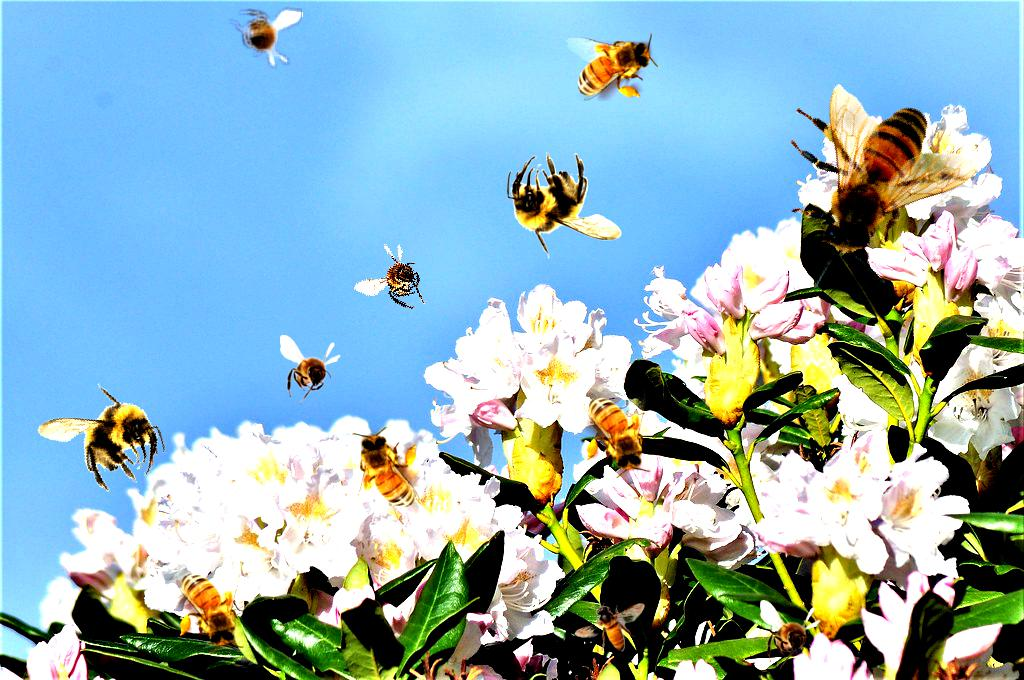Bee: (733, 44, 1008, 316), (29, 368, 174, 509), (507, 152, 622, 259), (353, 234, 444, 322), (352, 427, 420, 520), (565, 33, 658, 101), (583, 385, 651, 478), (176, 561, 244, 654), (225, 0, 304, 72), (760, 600, 821, 670), (280, 335, 341, 405), (574, 602, 645, 652)
